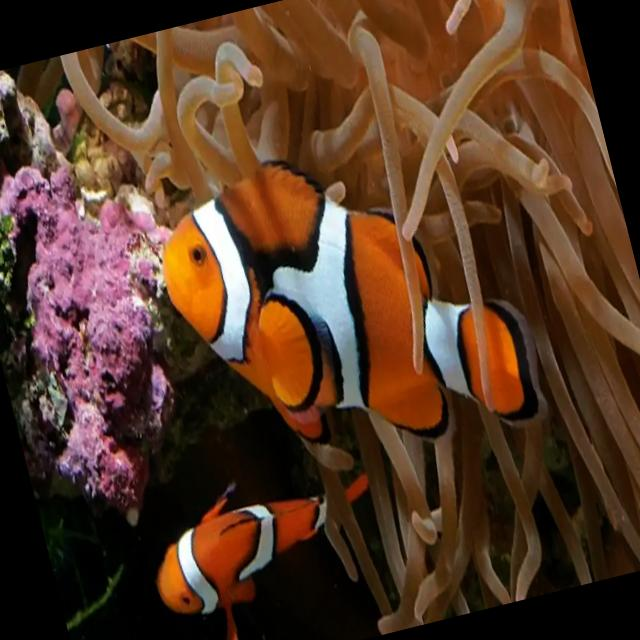ClownFish: (139, 108, 552, 503), (139, 455, 392, 629)
